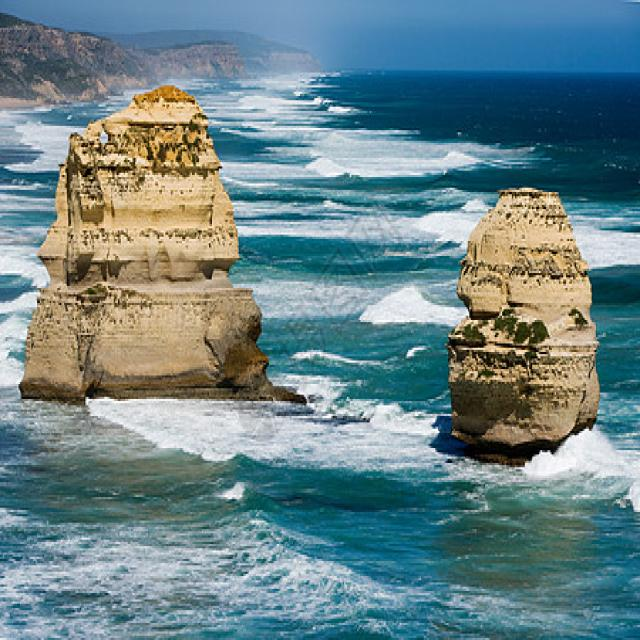reef: (26, 73, 270, 414), (446, 174, 596, 458)
